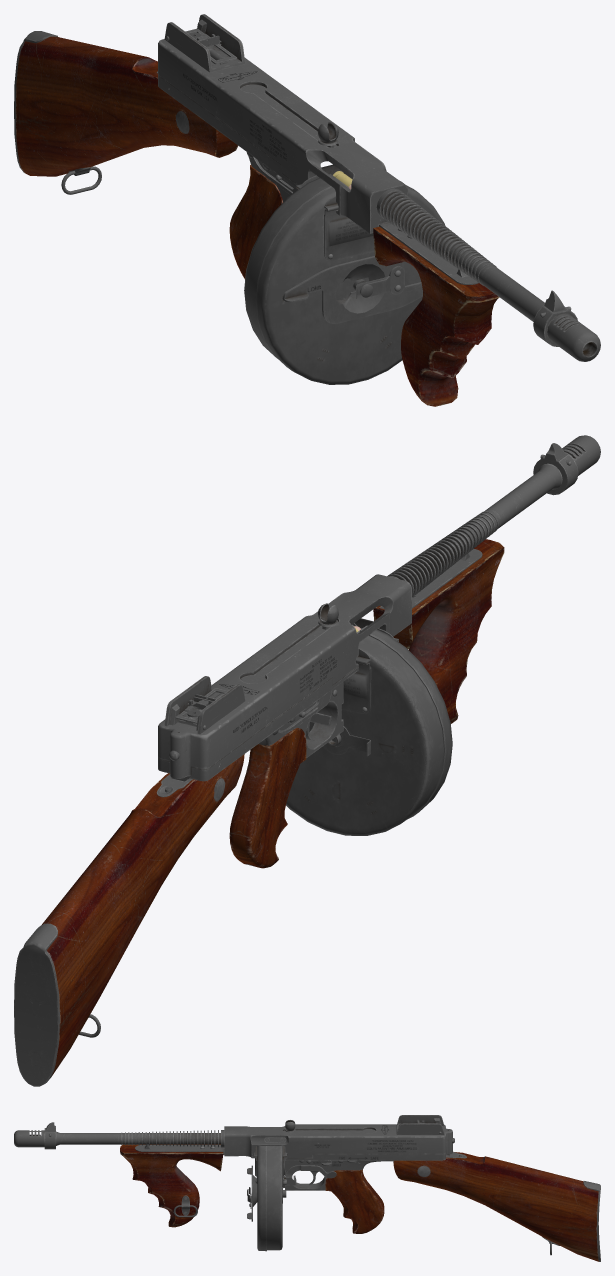
The model's file is tommy_gun.glb.
The picture shows the model from 3 angles, top to bottom: view 1: azimuth 30°, elevation 25°; view 2: azimuth 150°, elevation 25°; view 3: azimuth 270°, elevation 25°; orthographic projection. The views are drawn at different scales.
Parts seen in each view (by area): view 1: barrel_low_Material #26_0; view 2: barrel_low_Material #26_0; view 3: barrel_low_Material #26_0.
Boxes of the visible parts, bbox=[...] form: barrel_low_Material #26_0: bbox=[14, 14, 600, 406]; barrel_low_Material #26_0: bbox=[14, 435, 600, 1086]; barrel_low_Material #26_0: bbox=[14, 1115, 600, 1261].
Size of the model in its own units: 0.244 by 0.3302 by 1.24.
3 materials, 3 textured.
